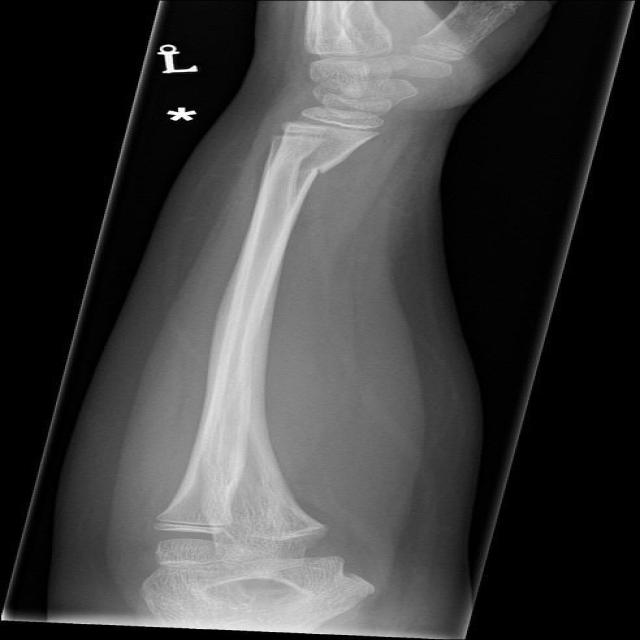fracture: (307, 161, 332, 177)
